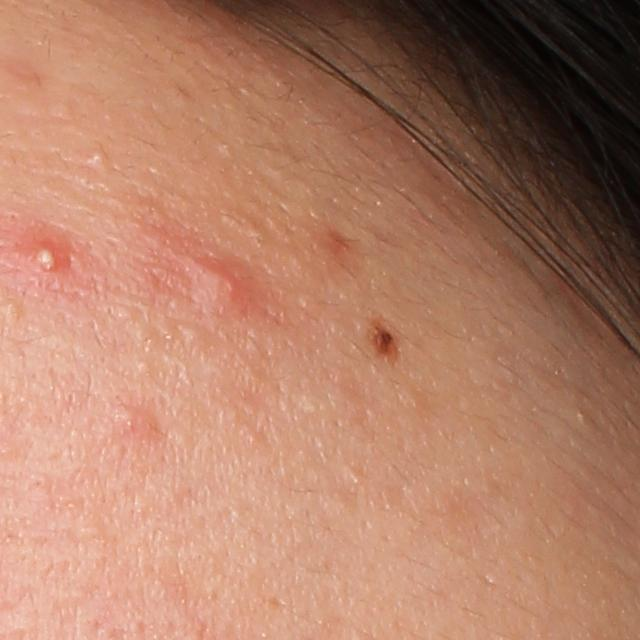comedo: (86, 148, 111, 170), (3, 296, 25, 318)
papule: (172, 245, 252, 321), (117, 403, 147, 430)
pustule: (32, 240, 61, 276)
